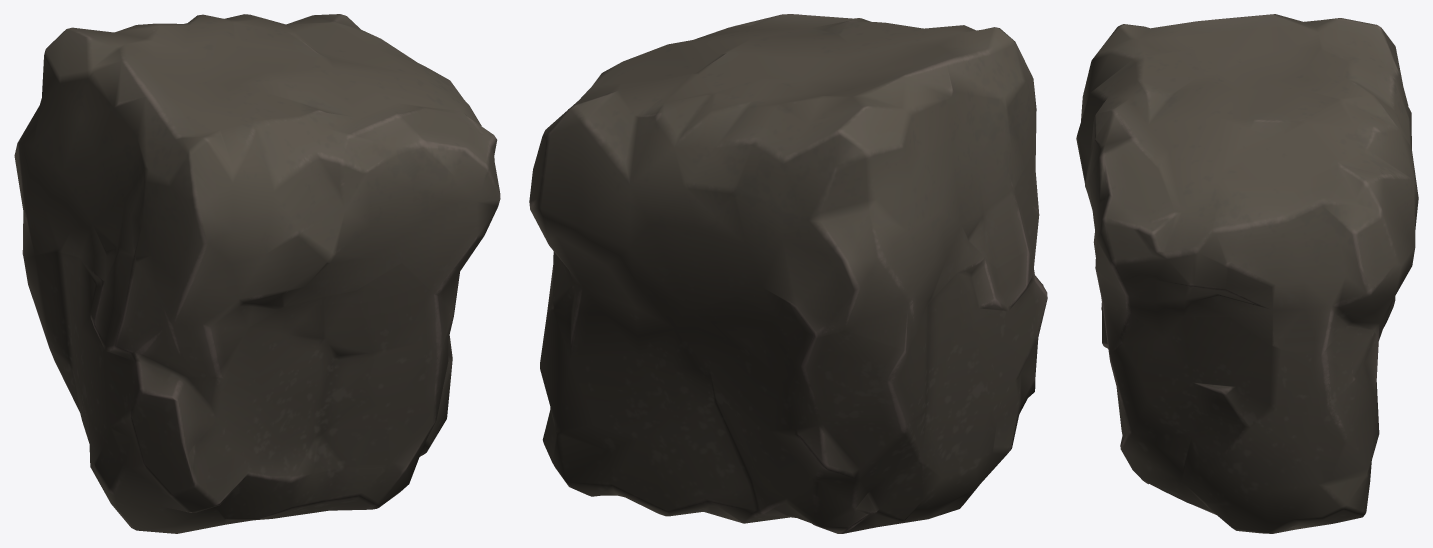
The model's file is Udrock01.fbx.
The picture shows the model from 3 angles, left to right: view 1: azimuth 30°, elevation 25°; view 2: azimuth 150°, elevation 25°; view 3: azimuth 270°, elevation 25°; orthographic projection. The views are drawn at different scales.
Visible parts, largest first — view 1: drock01; view 2: drock01; view 3: drock01.
Part boxes in pixels (bbox=[...]): drock01: bbox=[14, 14, 500, 533]; drock01: bbox=[529, 14, 1047, 533]; drock01: bbox=[1076, 14, 1418, 533].
Size of the model in its own units: 661 by 742 by 571.
Materials: 1 (1 with a texture image).
